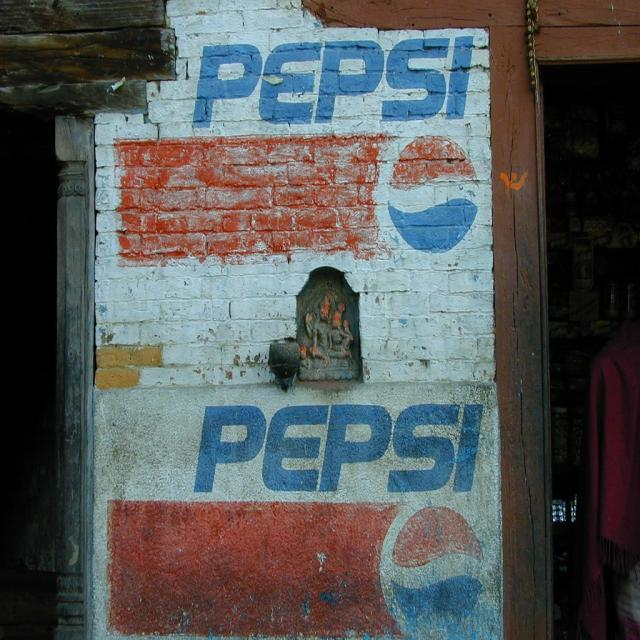pepsi: (386, 502, 484, 632), (385, 136, 480, 257)
